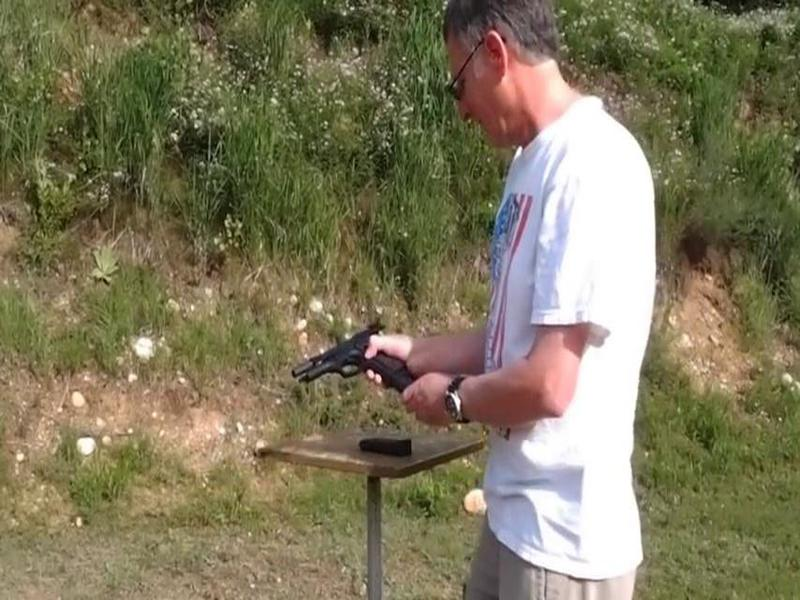Pistola: (291, 313, 437, 427)
